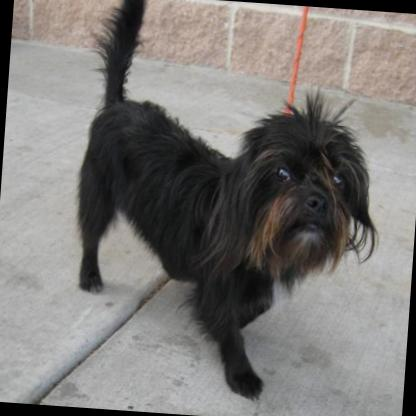affenpinscher: (59, 0, 395, 403)
